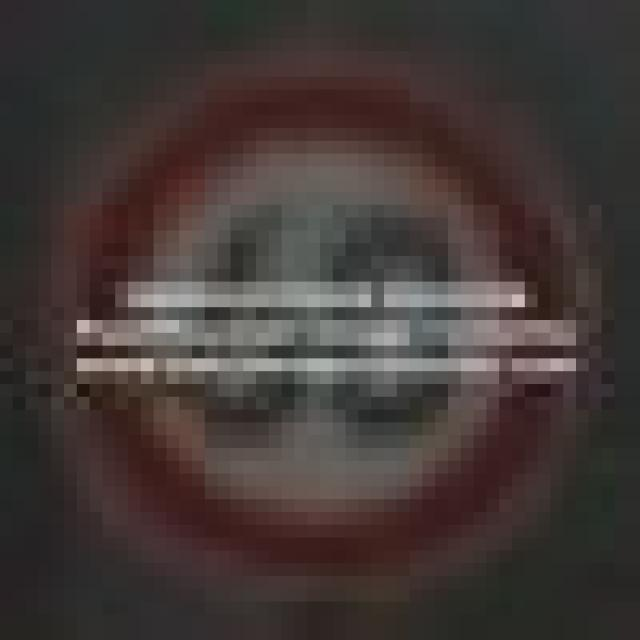SPEED_LIMIT_60: (38, 64, 576, 563)
